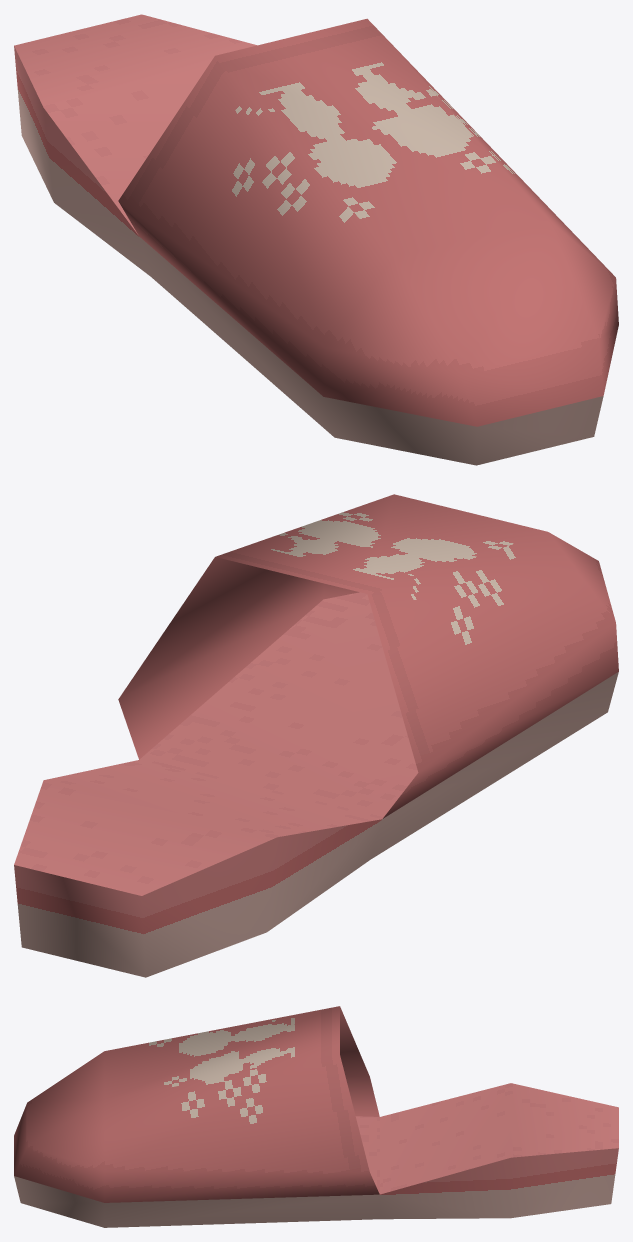
The model's file is 019f_Slipper.glb.
3 views of the same model, one above another, from view 1: azimuth 30°, elevation 25°; view 2: azimuth 150°, elevation 25°; view 3: azimuth 270°, elevation 25° (orthographic). The views are drawn at different scales.
Parts seen in each view (by area): view 1: part_0; view 2: part_0; view 3: part_0.
Part boxes in pixels (x1,y1,x2,y2): part_0: (14, 14, 618, 465); part_0: (14, 494, 618, 977); part_0: (14, 1006, 618, 1227).
Bounding box in the file's own units: 0.1289 × 0.0966 × 0.3441.
1 material, 1 textured.
